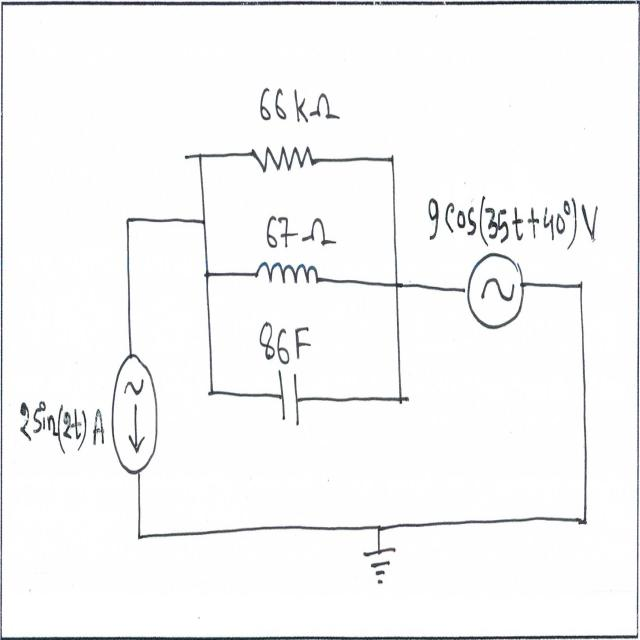ac_current: (458, 252, 532, 341)
capacitor: (276, 365, 308, 435)
current_source: (110, 350, 162, 494)
ground: (360, 540, 408, 589)
inductor: (248, 252, 324, 303)
resistor: (246, 128, 323, 188)
